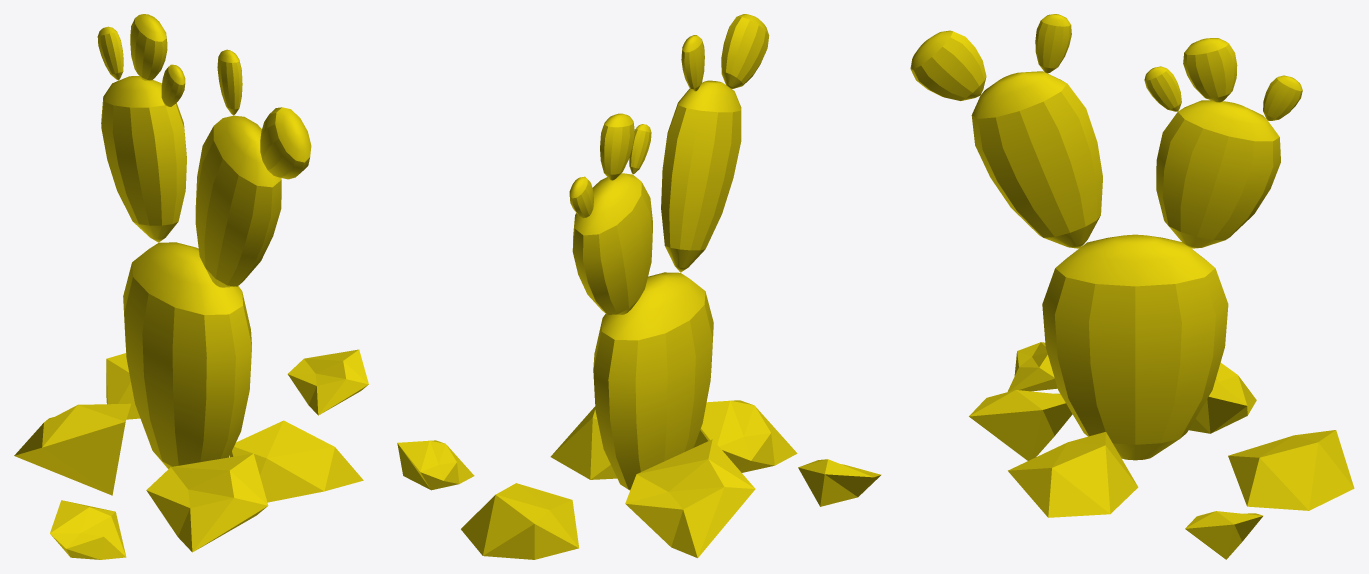
Rendered from Envi_Cactus_Flat_01_v01.fbx.
3 views of the same model, side by side, from view 1: azimuth 30°, elevation 25°; view 2: azimuth 150°, elevation 25°; view 3: azimuth 270°, elevation 25° (orthographic). The views are drawn at different scales.
Visible parts, largest first — view 1: Truck_Ex_Set03_Cactus_Part_Bottom1, Truck_Ex_Set03_Cactus_Part_Mid_07, Truck_Ex_Set03_Cactus_Part_Mid_08, Truck_Ex_Set03_RockCactus_Small_15, Truck_Ex_Set03_RockCactus_Small_16, Truck_Ex_Set03_RockCactus_Small_17, Truck_Ex_Set03_RockCactus_Small_8, Truck_Ex_Set03_RockCactus_Small_7, Truck_Ex_Set03_Cactus_Part_Top_14, Truck_Ex_Set03_Cactus_Part_Top_17, Truck_Ex_Set03_RockCactus_Small_14, Truck_Ex_Set03_Cactus_Part_Top_15 (+2 smaller); view 2: Truck_Ex_Set03_Cactus_Part_Bottom1, Truck_Ex_Set03_Cactus_Part_Mid_07, Truck_Ex_Set03_RockCactus_Small_16, Truck_Ex_Set03_Cactus_Part_Mid_08, Truck_Ex_Set03_RockCactus_Small_14, Truck_Ex_Set03_RockCactus_Small_15, Truck_Ex_Set03_RockCactus_Small_7, Truck_Ex_Set03_Cactus_Part_Top_14, Truck_Ex_Set03_RockCactus_Small_17, Truck_Ex_Set03_RockCactus_Small_8, Truck_Ex_Set03_Cactus_Part_Top_17, Truck_Ex_Set03_Cactus_Part_Top_15 (+2 smaller); view 3: Truck_Ex_Set03_Cactus_Part_Bottom1, Truck_Ex_Set03_Cactus_Part_Mid_07, Truck_Ex_Set03_Cactus_Part_Mid_08, Truck_Ex_Set03_RockCactus_Small_14, Truck_Ex_Set03_RockCactus_Small_17, Truck_Ex_Set03_RockCactus_Small_15, Truck_Ex_Set03_Cactus_Part_Top_14, Truck_Ex_Set03_Cactus_Part_Top_17, Truck_Ex_Set03_RockCactus_Small_16, Truck_Ex_Set03_RockCactus_Small_7, Truck_Ex_Set03_RockCactus_Small_8, Truck_Ex_Set03_Cactus_Part_Top_15 (+2 smaller).
Part boxes in pixels (x1,y1,x2,y2): Truck_Ex_Set03_Cactus_Part_Bottom1: (123,242,251,468); Truck_Ex_Set03_Cactus_Part_Mid_07: (195,115,281,287); Truck_Ex_Set03_Cactus_Part_Mid_08: (101,76,186,242); Truck_Ex_Set03_RockCactus_Small_15: (146,453,268,552); Truck_Ex_Set03_RockCactus_Small_16: (14,403,130,495); Truck_Ex_Set03_RockCactus_Small_17: (230,420,363,502); Truck_Ex_Set03_RockCactus_Small_8: (50,500,126,559); Truck_Ex_Set03_RockCactus_Small_7: (287,349,368,415); Truck_Ex_Set03_Cactus_Part_Top_14: (260,107,311,179); Truck_Ex_Set03_Cactus_Part_Top_17: (130,14,167,80); Truck_Ex_Set03_RockCactus_Small_14: (106,353,140,419); Truck_Ex_Set03_Cactus_Part_Top_15: (217,49,242,115); Truck_Ex_Set03_Cactus_Part_Bottom1: (593,272,713,490); Truck_Ex_Set03_Cactus_Part_Mid_07: (661,80,741,272); Truck_Ex_Set03_RockCactus_Small_16: (625,439,755,558); Truck_Ex_Set03_Cactus_Part_Mid_08: (572,173,652,314); Truck_Ex_Set03_RockCactus_Small_14: (461,483,578,559); Truck_Ex_Set03_RockCactus_Small_15: (693,400,797,472); Truck_Ex_Set03_RockCactus_Small_7: (397,440,474,490); Truck_Ex_Set03_Cactus_Part_Top_14: (721,14,769,88); Truck_Ex_Set03_RockCactus_Small_17: (550,406,617,479); Truck_Ex_Set03_RockCactus_Small_8: (798,459,881,506); Truck_Ex_Set03_Cactus_Part_Top_17: (600,113,634,180); Truck_Ex_Set03_Cactus_Part_Top_15: (681,35,704,91); Truck_Ex_Set03_Cactus_Part_Bottom1: (1042,234,1228,460); Truck_Ex_Set03_Cactus_Part_Mid_07: (971,71,1102,248); Truck_Ex_Set03_Cactus_Part_Mid_08: (1156,100,1280,248); Truck_Ex_Set03_RockCactus_Small_14: (1228,430,1354,510); Truck_Ex_Set03_RockCactus_Small_17: (1008,432,1138,517); Truck_Ex_Set03_RockCactus_Small_15: (969,390,1072,460); Truck_Ex_Set03_Cactus_Part_Top_14: (910,30,986,100); Truck_Ex_Set03_Cactus_Part_Top_17: (1183,38,1237,102); Truck_Ex_Set03_RockCactus_Small_16: (1189,363,1256,433); Truck_Ex_Set03_RockCactus_Small_7: (1185,511,1263,559); Truck_Ex_Set03_RockCactus_Small_8: (1007,342,1057,391); Truck_Ex_Set03_Cactus_Part_Top_15: (1035,14,1071,73).
Size of the model in its own units: 12.9 by 13.81 by 12.58.
